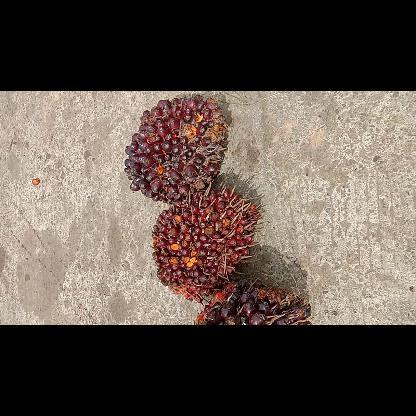Kurang masak: (150, 188, 258, 302), (124, 93, 226, 205)
TBS masak: (194, 282, 312, 324)
